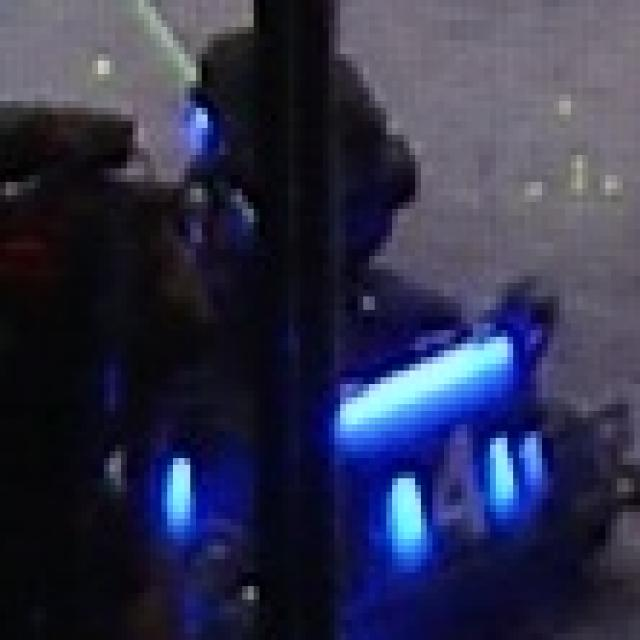B4: (381, 411, 513, 552)
